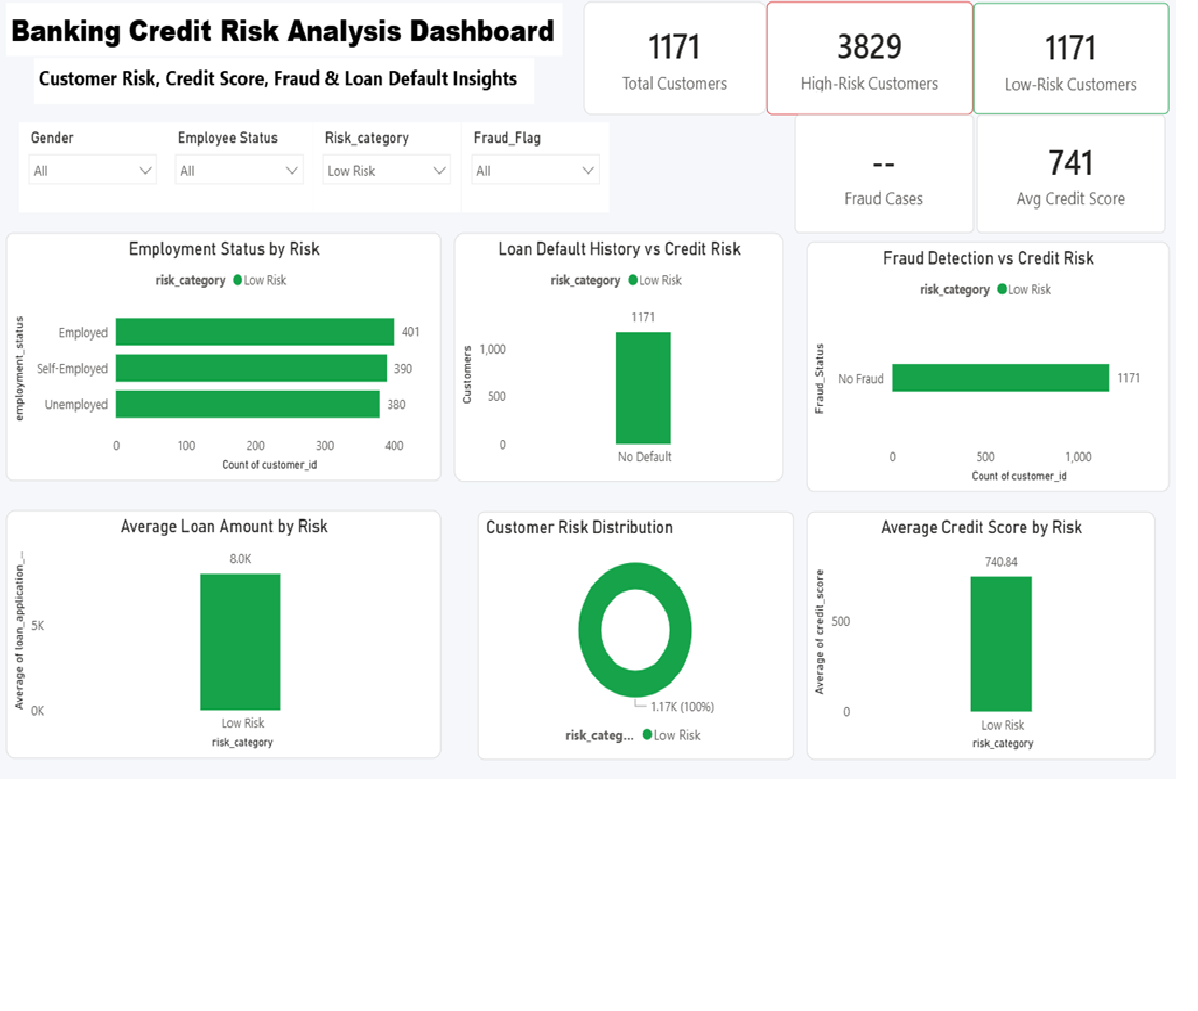

Layout of this report page (visuals, bound fields, positions):
{"tool":"powerbi","page":{"name":"Page 1","canvas":[1280,720],"ordinal":0},"visuals":[{"type":"textbox","box":[15.1,12.3,601,48],"z":0},{"type":"cardVisual","fields":{"Data":["Count(credit_risk_dataset.Column1)"]},"box":[638.9,11.9,197.1,102.1],"z":1000},{"type":"cardVisual","fields":{"Data":["credit_risk_dataset.High Risk Customers"]},"box":[836.1,11.9,223.3,102.1],"z":2000},{"type":"cardVisual","fields":{"Data":["credit_risk_dataset.Fraud Cases"]},"box":[865.8,114,193.6,106.9],"z":3000},{"type":"cardVisual","fields":{"Data":["credit_risk_dataset.Low Risk Customers"]},"box":[1059.3,13.1,211.4,100.9],"z":4000},{"type":"cardVisual","fields":{"Data":["credit_risk_dataset.Avg Credit Score"]},"box":[1062.9,114,204.3,106.9],"z":5000},{"type":"donutChart","title":"Customer Risk Distribution","fields":{"Category":["credit_risk_dataset.risk_category"],"Y":["Count(credit_risk_dataset.Column1)"]},"box":[524.8,472.7,340.5,225.1],"z":6000},{"type":"clusteredColumnChart","title":"Average Credit Score by Risk","fields":{"Category":["credit_risk_dataset.risk_category"],"Y":["Avg(credit_risk_dataset.credit_score)"]},"box":[879.3,472.7,377.1,225.1],"z":7000},{"type":"columnChart","title":"Loan Default History vs Credit Risk","fields":{"Series":["credit_risk_dataset.risk_category"],"Y":["CountNonNull(credit_risk_dataset.Column1)"],"Category":["credit_risk_dataset.Loan_Default_Status"]},"box":[498.8,220.9,355.1,225.6],"z":8000},{"type":"barChart","title":"Fraud Detection vs Credit Risk","fields":{"Series":["credit_risk_dataset.risk_category"],"Y":["CountNonNull(credit_risk_dataset.customer_id)"],"Category":["credit_risk_dataset.Fraud_Status"]},"box":[879.1,229.1,391.9,226.7],"z":9000},{"type":"barChart","title":"Employment Status by Risk","fields":{"Category":["credit_risk_dataset.employment_status"],"Series":["credit_risk_dataset.risk_category"],"Y":["CountNonNull(credit_risk_dataset.customer_id)"]},"box":[15.1,220.9,469.3,225],"z":10000},{"type":"clusteredColumnChart","title":"Average Loan Amount by Risk","fields":{"Category":["credit_risk_dataset.risk_category"],"Y":["Avg(credit_risk_dataset.loan_application_amount)"]},"box":[15.1,472,469.3,225],"z":11000},{"type":"slicer","fields":{"Values":["credit_risk_dataset.gender"]},"box":[28.5,121.1,159.1,81.9],"z":12000},{"type":"slicer","fields":{"Values":["credit_risk_dataset.fraud_flag"]},"box":[507.1,121.1,159.1,81.9],"z":13000},{"type":"slicer","fields":{"Values":["credit_risk_dataset.employment_status"]},"box":[187.6,121.1,159.1,81.9],"z":14000},{"type":"slicer","fields":{"Values":["credit_risk_dataset.risk_category"]},"box":[346.8,121.1,159.1,81.9],"z":15000},{"type":"textbox","box":[45.1,62.9,540.4,41.6],"z":16000}]}

Visuals, with their boxes on the page's 1280x720 design canvas (x1, y1, x2, y2). These are canvas units, not pixel positions in the 1198x1011 screenshot, which may show the page scaled, cropped or inside an application window:
textbox: box=[15, 12, 616, 60]
cardVisual - Count(credit_risk_dataset.Column1): box=[639, 12, 836, 114]
cardVisual - credit_risk_dataset.High Risk Customers: box=[836, 12, 1059, 114]
cardVisual - credit_risk_dataset.Fraud Cases: box=[866, 114, 1059, 221]
cardVisual - credit_risk_dataset.Low Risk Customers: box=[1059, 13, 1271, 114]
cardVisual - credit_risk_dataset.Avg Credit Score: box=[1063, 114, 1267, 221]
"Customer Risk Distribution" donutChart: box=[525, 473, 865, 698]
"Average Credit Score by Risk" clusteredColumnChart: box=[879, 473, 1256, 698]
"Loan Default History vs Credit Risk" columnChart: box=[499, 221, 854, 446]
"Fraud Detection vs Credit Risk" barChart: box=[879, 229, 1271, 456]
"Employment Status by Risk" barChart: box=[15, 221, 484, 446]
"Average Loan Amount by Risk" clusteredColumnChart: box=[15, 472, 484, 697]
slicer - credit_risk_dataset.gender: box=[28, 121, 188, 203]
slicer - credit_risk_dataset.fraud_flag: box=[507, 121, 666, 203]
slicer - credit_risk_dataset.employment_status: box=[188, 121, 347, 203]
slicer - credit_risk_dataset.risk_category: box=[347, 121, 506, 203]
textbox: box=[45, 63, 586, 104]
